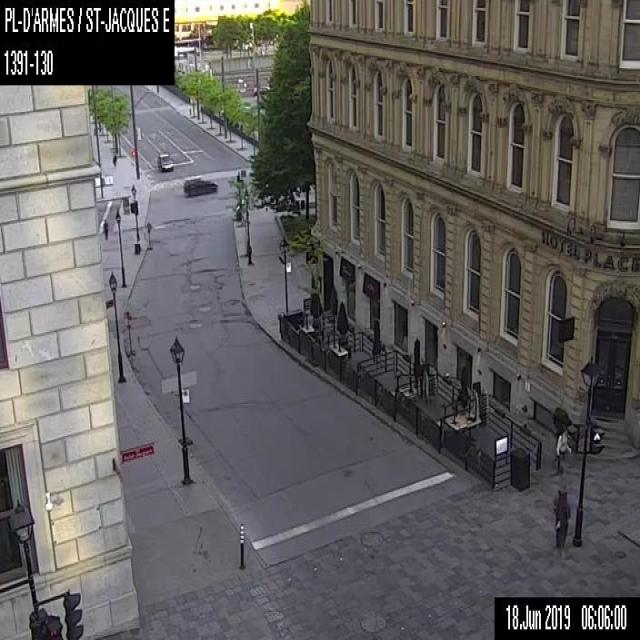pedestrian: (551, 484, 570, 551), (554, 423, 570, 472), (102, 218, 108, 240), (112, 152, 116, 170)
vehicle: (182, 176, 218, 196), (157, 151, 173, 172)
